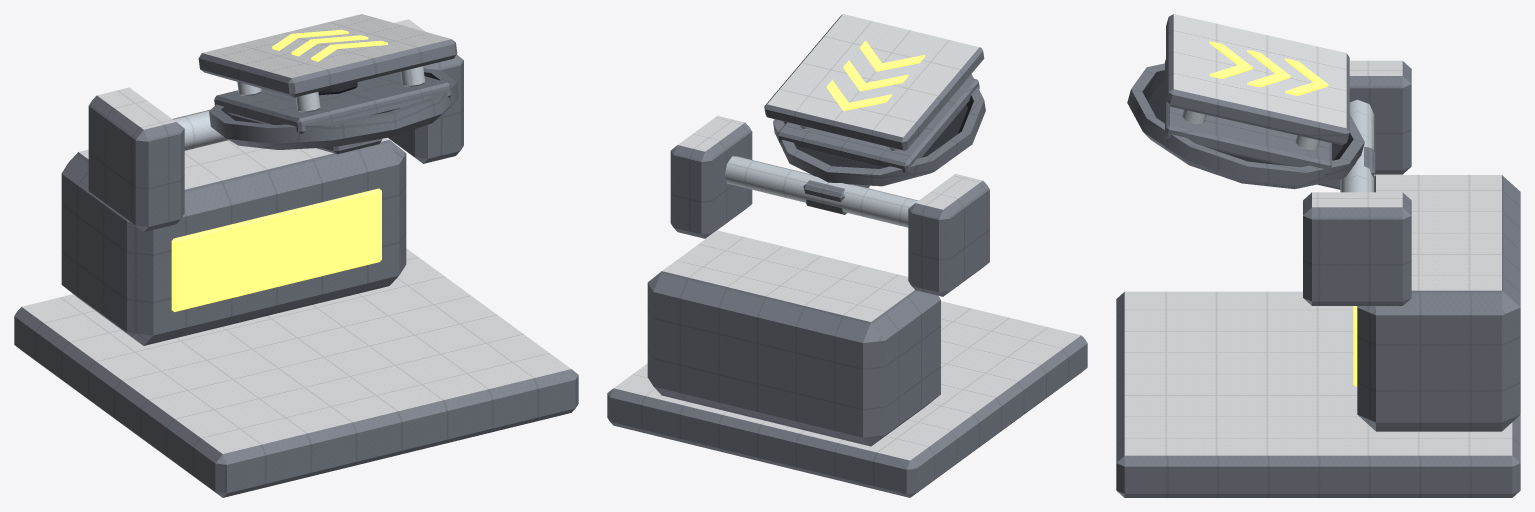
The model's file is R4X_KnockbackTrapDeployer_LOD1.glb.
3 renders of one model, left to right at view 1: azimuth 30°, elevation 25°; view 2: azimuth 150°, elevation 25°; view 3: azimuth 270°, elevation 25°, orthographic. The views are drawn at different scales.
Visible parts, largest first — view 1: R4X_KnockbackTrapDeployer_LOD1; view 2: R4X_KnockbackTrapDeployer_LOD1; view 3: R4X_KnockbackTrapDeployer_LOD1.
Boxes of the visible parts, bbox=[...] form: R4X_KnockbackTrapDeployer_LOD1: bbox=[14, 14, 578, 497]; R4X_KnockbackTrapDeployer_LOD1: bbox=[607, 14, 1087, 497]; R4X_KnockbackTrapDeployer_LOD1: bbox=[1116, 14, 1520, 497].
Bounding box in the file's own units: 0.52 × 0.5171 × 0.52.
Materials: 5 (4 with a texture image).
